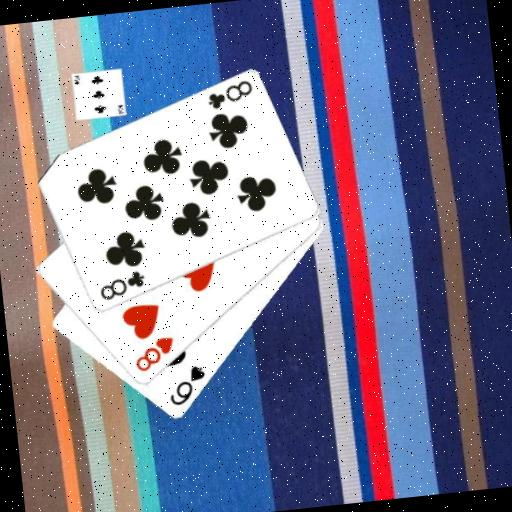6S: (163, 361, 210, 409)
8C: (95, 267, 149, 304), (202, 77, 255, 112)
8H: (130, 333, 179, 375)
